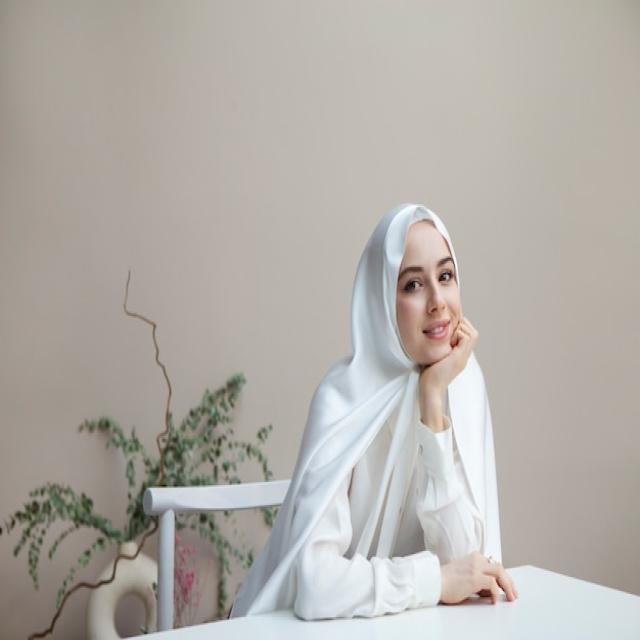Person: (230, 202, 520, 620)
